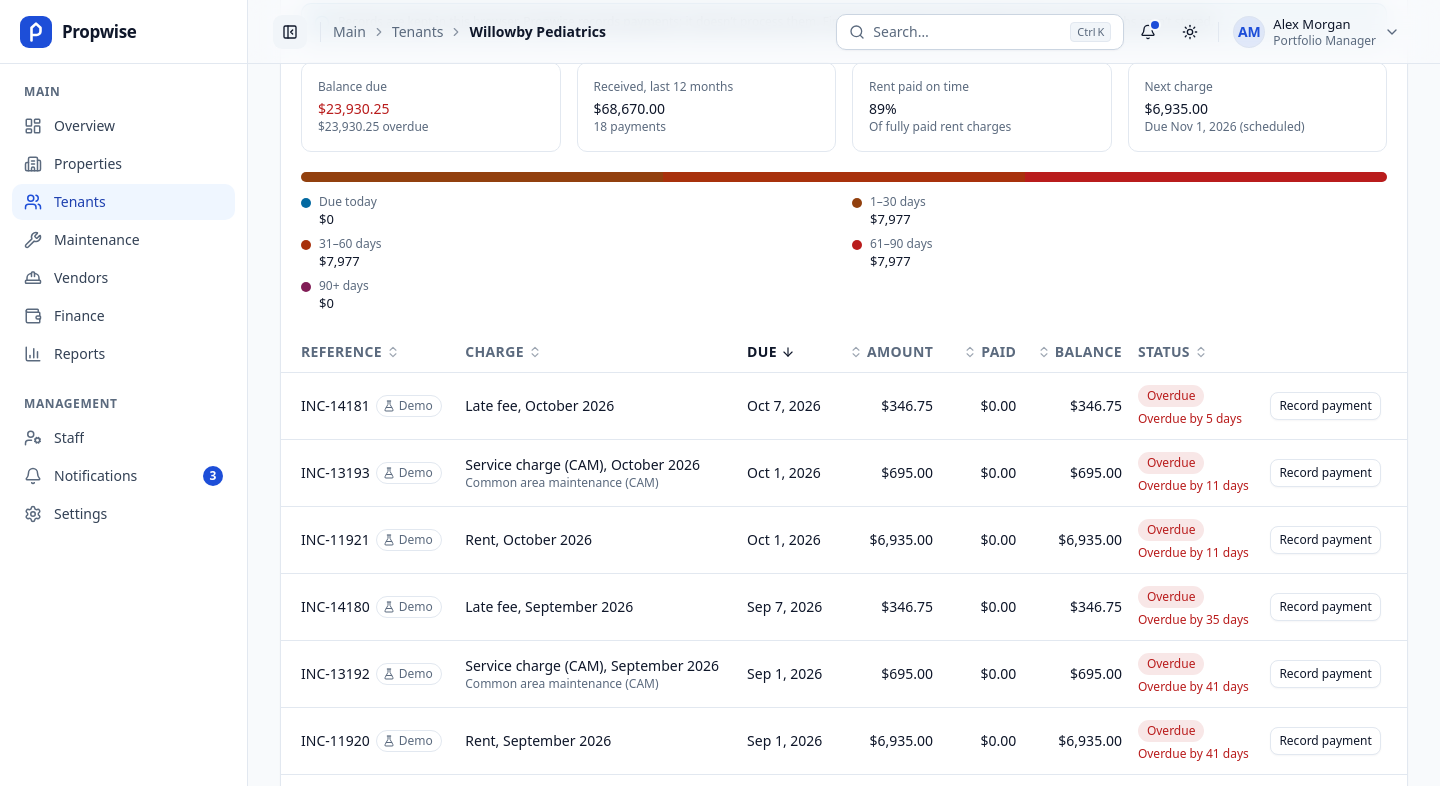
Test: tenant Payments tab › records a payment against a charge and shows it only after it is saved
This screenshot has width=1440, height=786.
(page scrolled)
Click the button with aria-label "Record payment for ". click: (1326,406)
box: [1270, 392, 1381, 420]
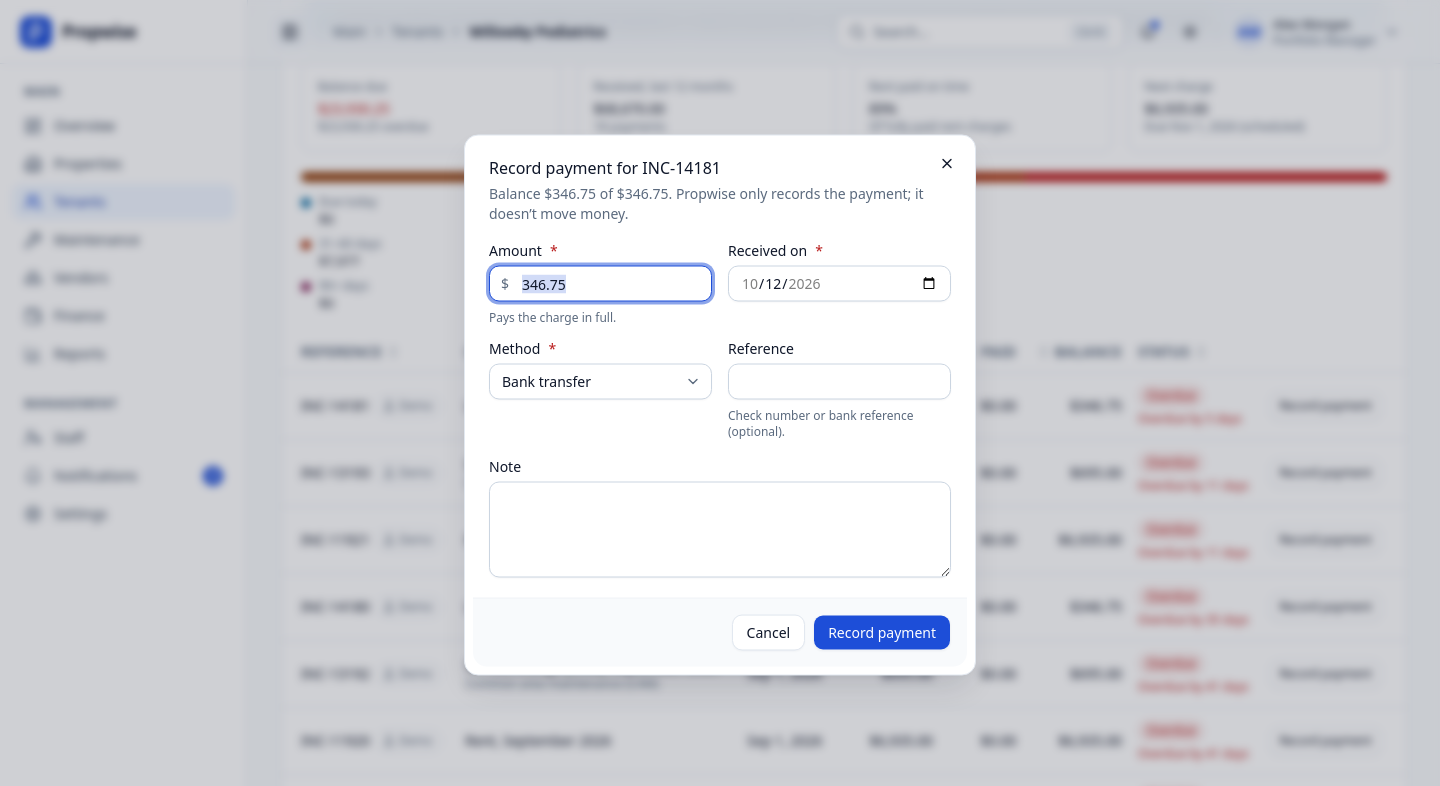
Clear the field labelled "Amount *". click: (600,284)
box: [489, 266, 712, 302]
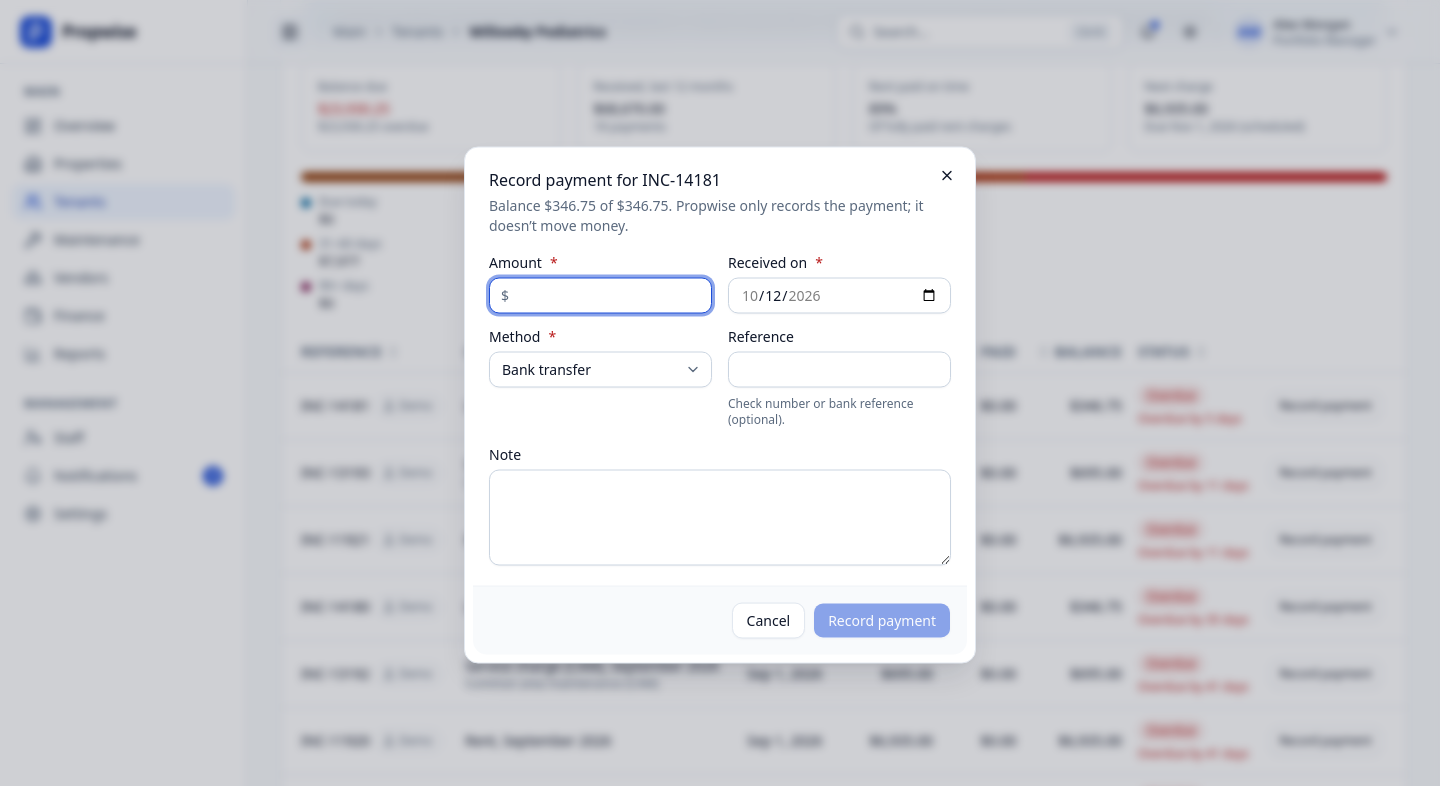
Type "10" into the field labelled "Amount *". click: (600,296)
box: [489, 278, 712, 314]
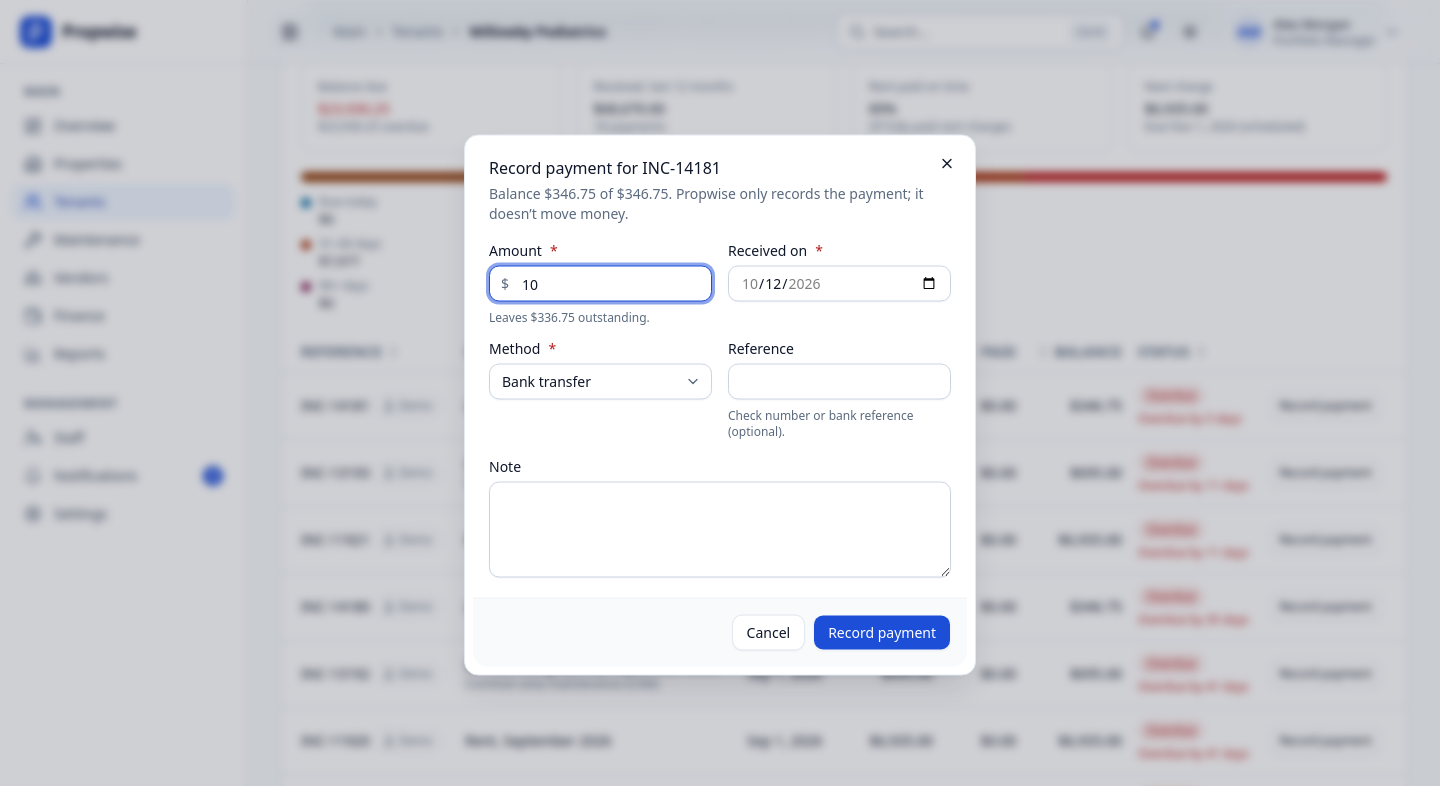
Click the button "Record payment". click: (882,632)
box: [813, 614, 951, 650]
(page scrolled)
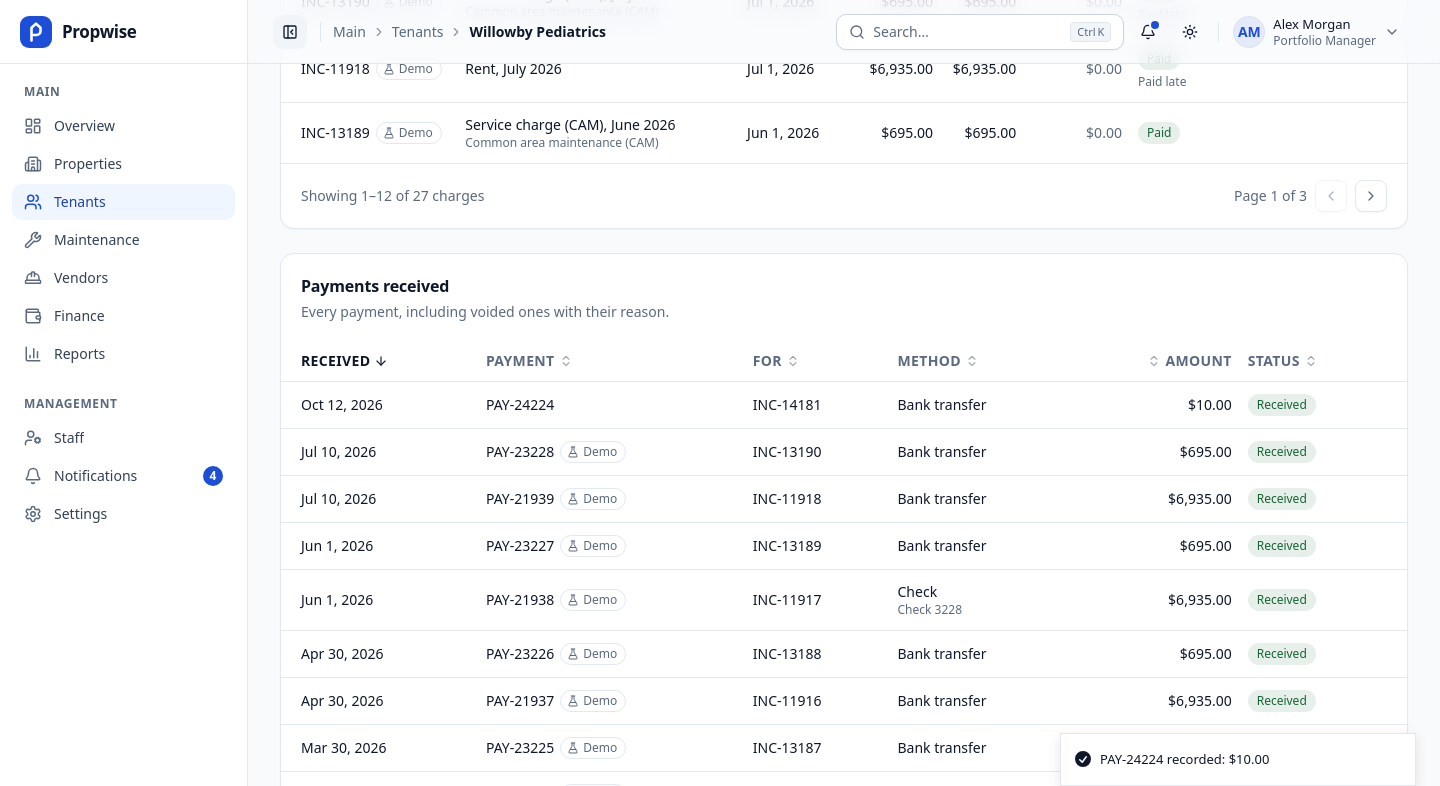
Expected: the text "PAY-24224 recorded: $10.00" is shown, [1100, 750, 1269, 769]
Expected: the dialog is gone
